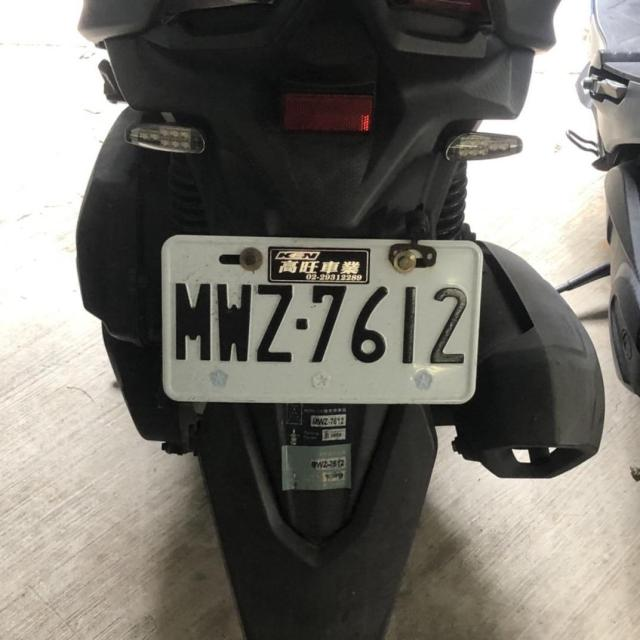W: (153, 230, 488, 406)
